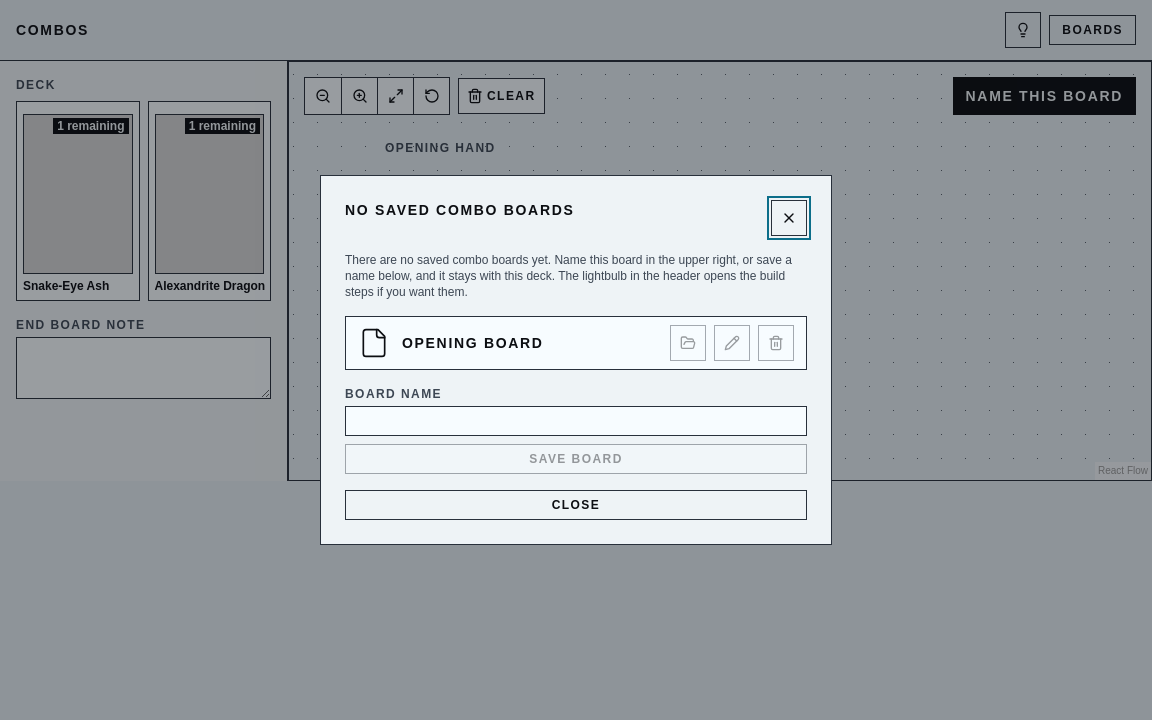
WorkshopCombosPane › starts from a blank board and explains that in a dialog
Check: the dialog "No saved combo boards" shows "There are no saved combo boards yet", box [345,253,792,299]
Check: the dialog "No saved combo boards" shows "lightbulb", box [345,253,792,299]
Click the button "Close" at point(576, 505), box [345,490,807,520]
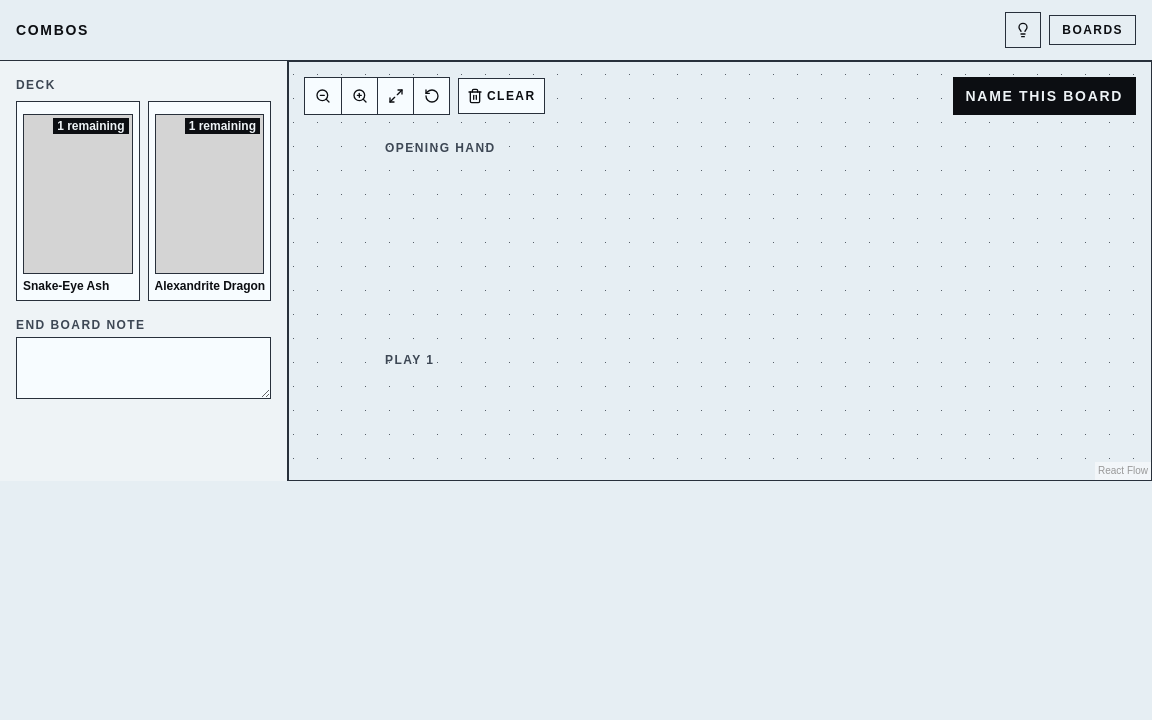
Check: the heading "Combos" is shown, box [16,20,89,40]
Click the button named "How to build your combo board" at point(1023, 30), box [1005,12,1041,48]
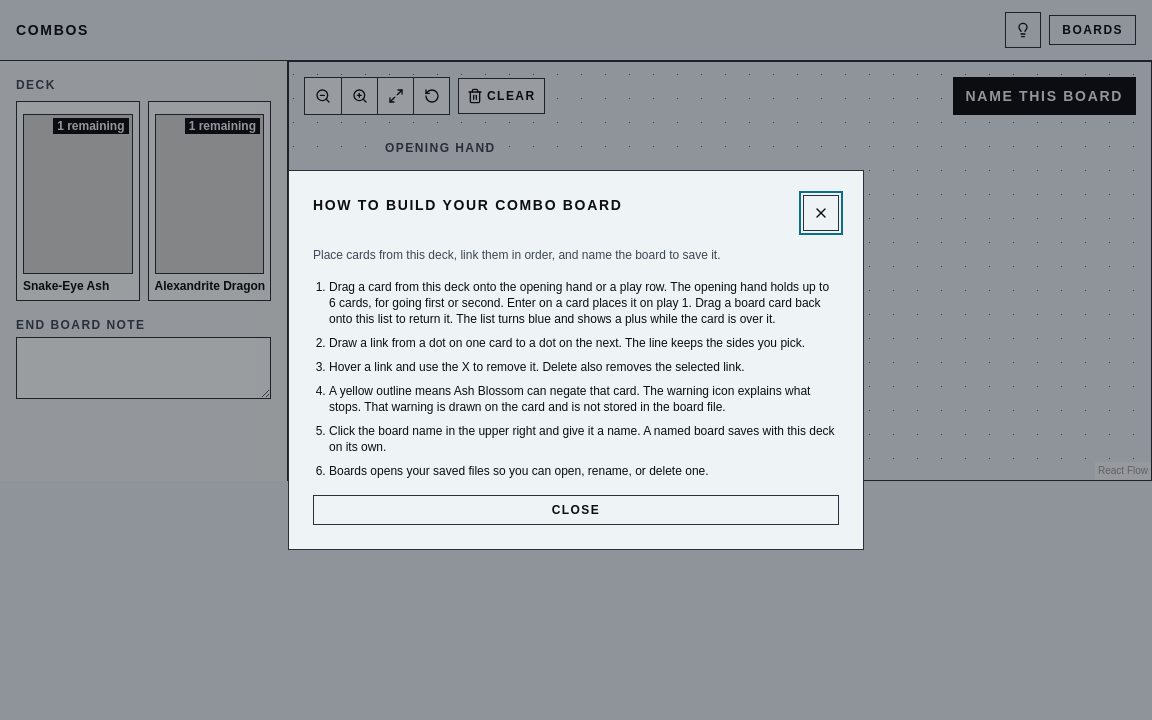
Click the button "Close" at point(576, 510), box [313,495,839,525]
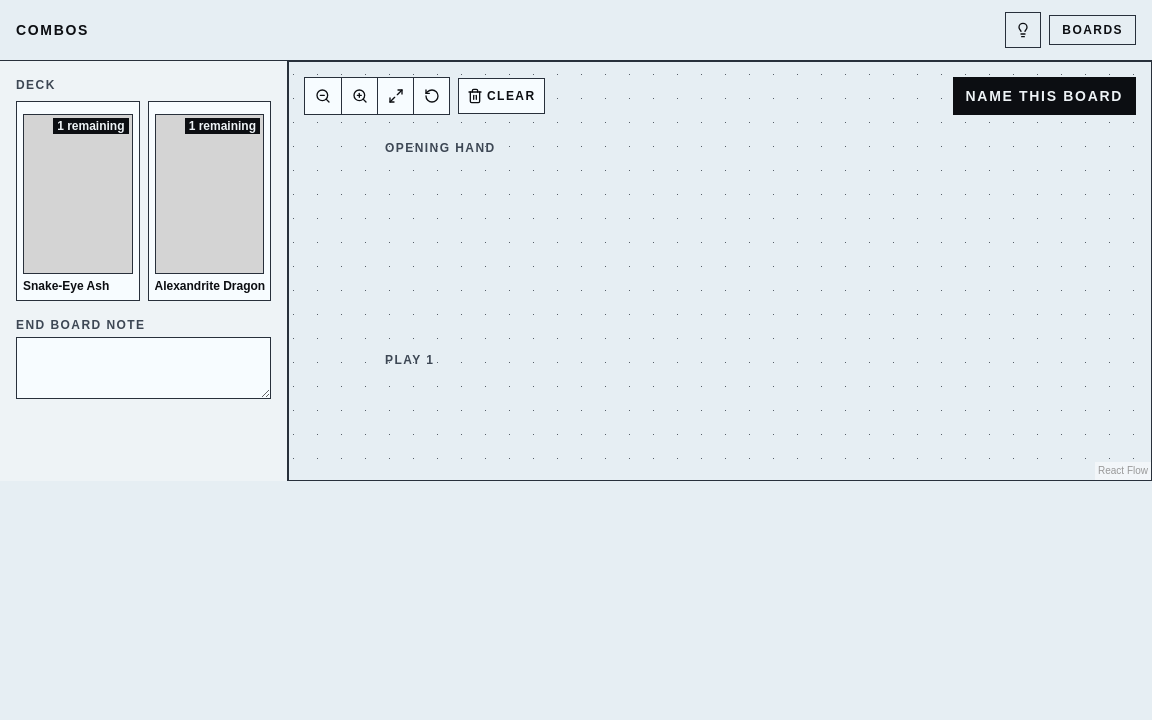
Click the button "Name this board" at point(1044, 96), box [953,77,1136,115]
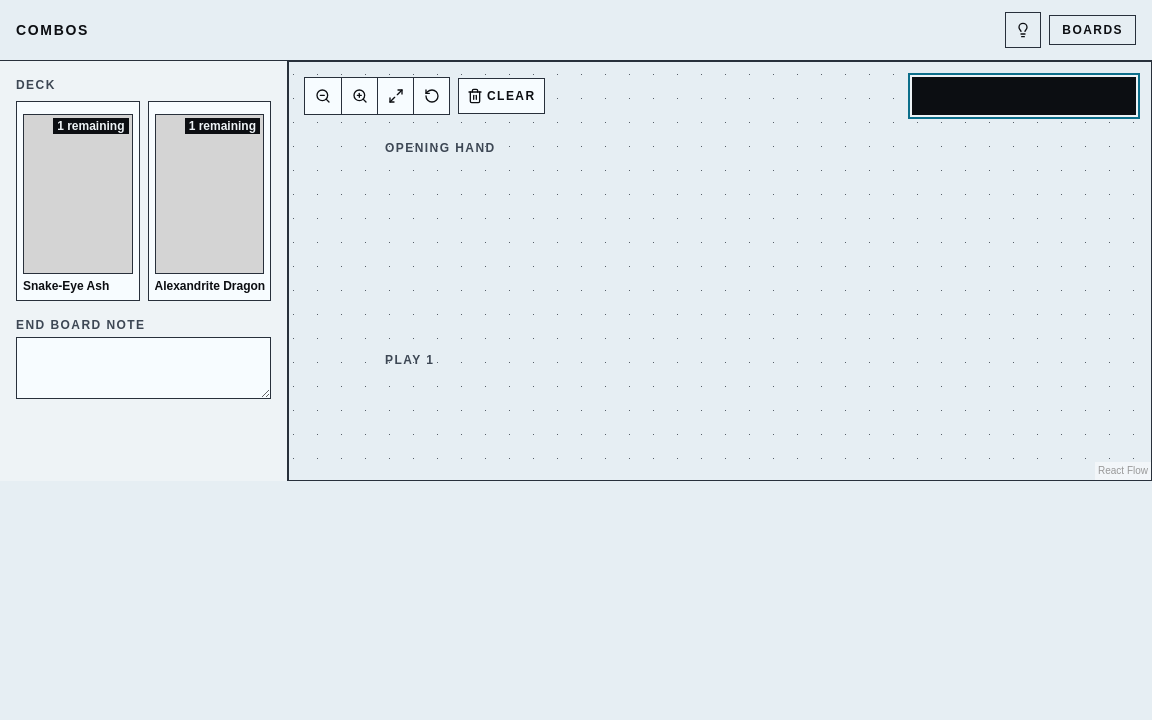
Type "Night board" into the field named "Combo board name" at point(1024, 96), box [912,77,1136,115]
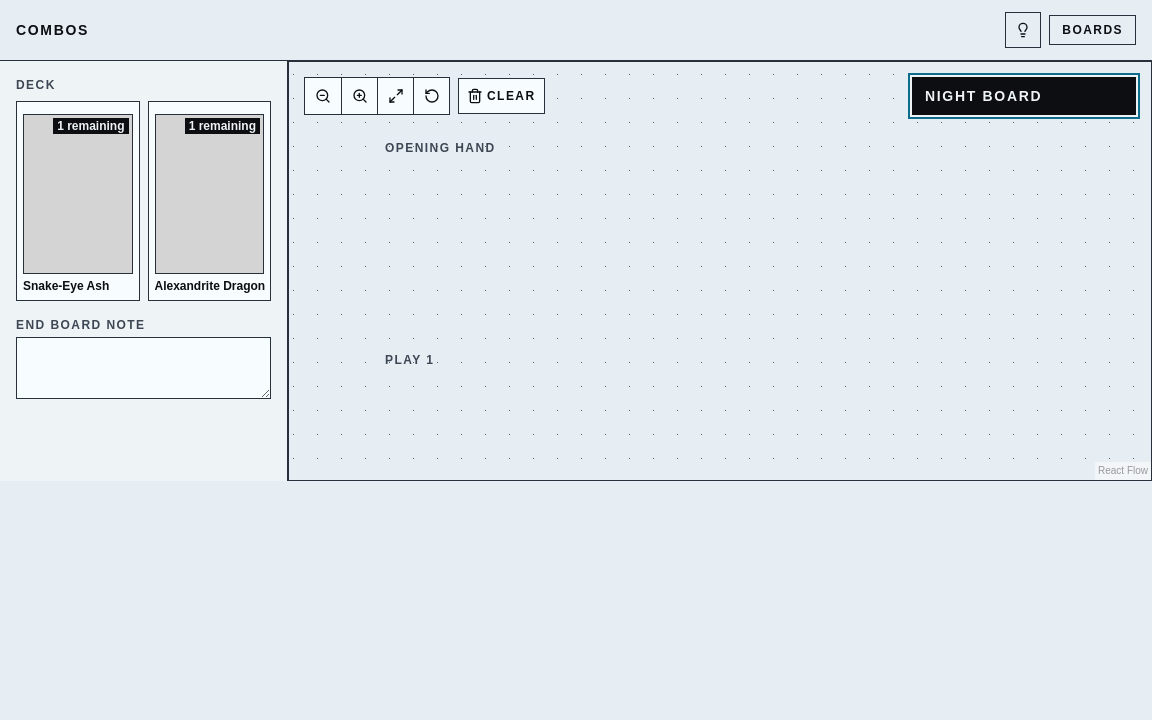
Press Enter
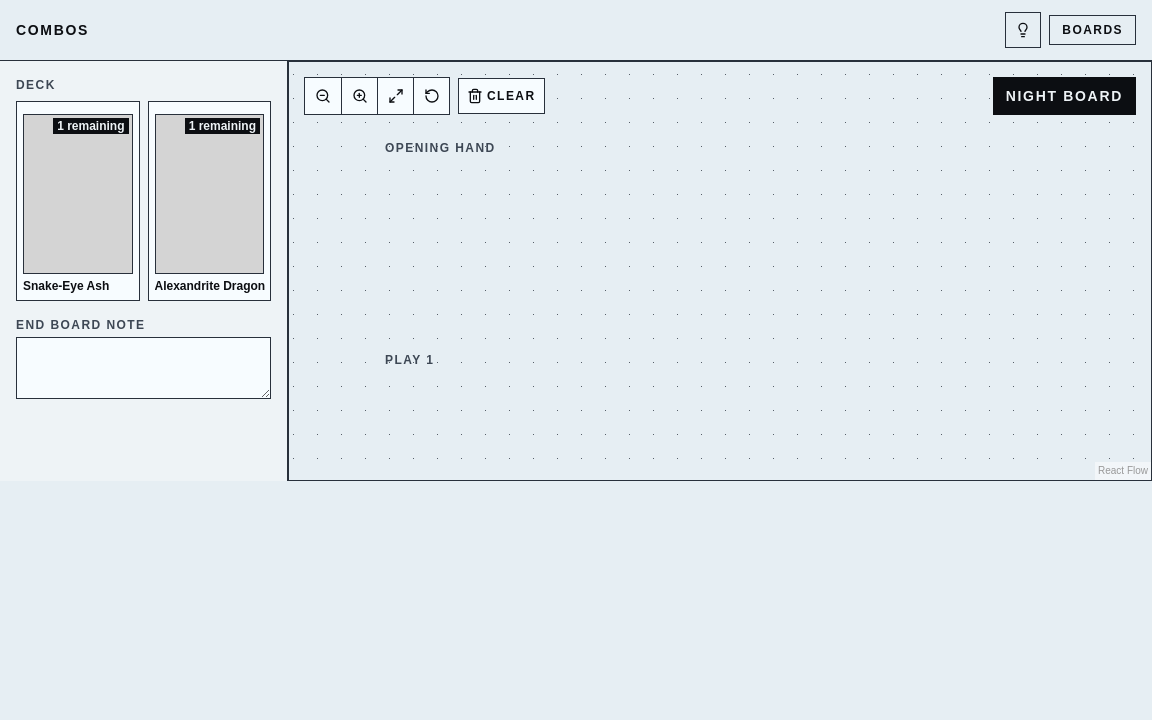
Check: the button with aria-label "Combo board name, Night board" is shown, box [993,77,1136,115]
